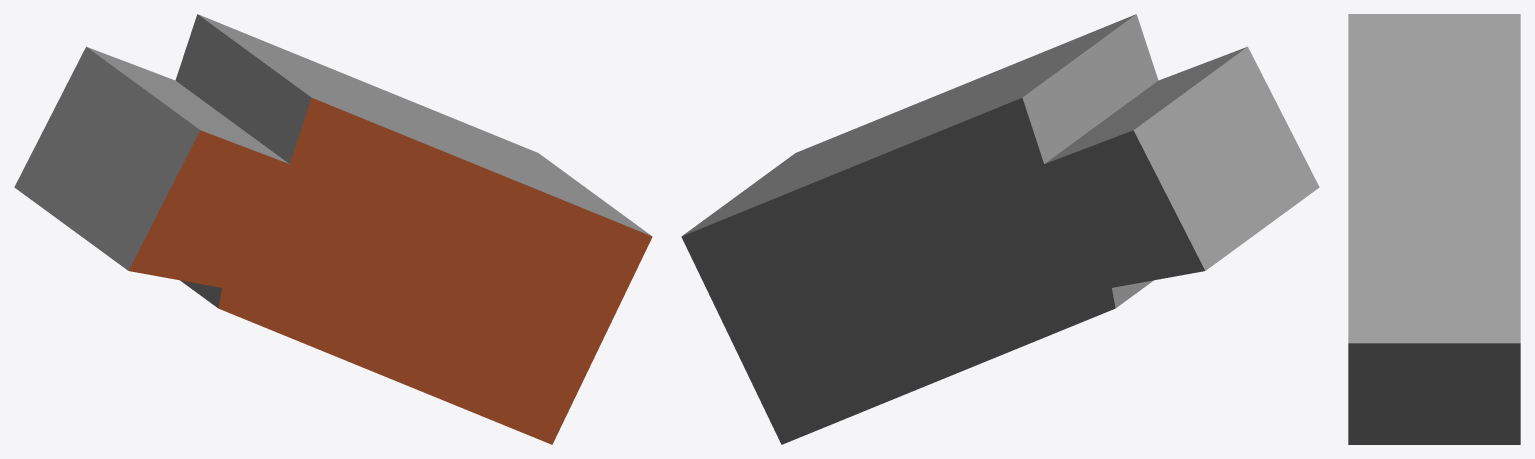
Rendered from construction_3769_assumed_A_Casa_h6m.obj.
3 renders of one model, left to right at view 1: azimuth 30°, elevation 25°; view 2: azimuth 150°, elevation 25°; view 3: azimuth 270°, elevation 25°, orthographic. The views are drawn at different scales.
Visible parts, largest first — view 1: construction_3769_assumed_A_Casa; view 2: construction_3769_assumed_A_Casa; view 3: construction_3769_assumed_A_Casa.
Boxes of the visible parts, x1,y1,x2,y2 form: construction_3769_assumed_A_Casa: [14, 14, 652, 444]; construction_3769_assumed_A_Casa: [681, 14, 1319, 444]; construction_3769_assumed_A_Casa: [1348, 14, 1520, 444].
Bounding box in the file's own units: 15.89 × 11.76 × 6.
